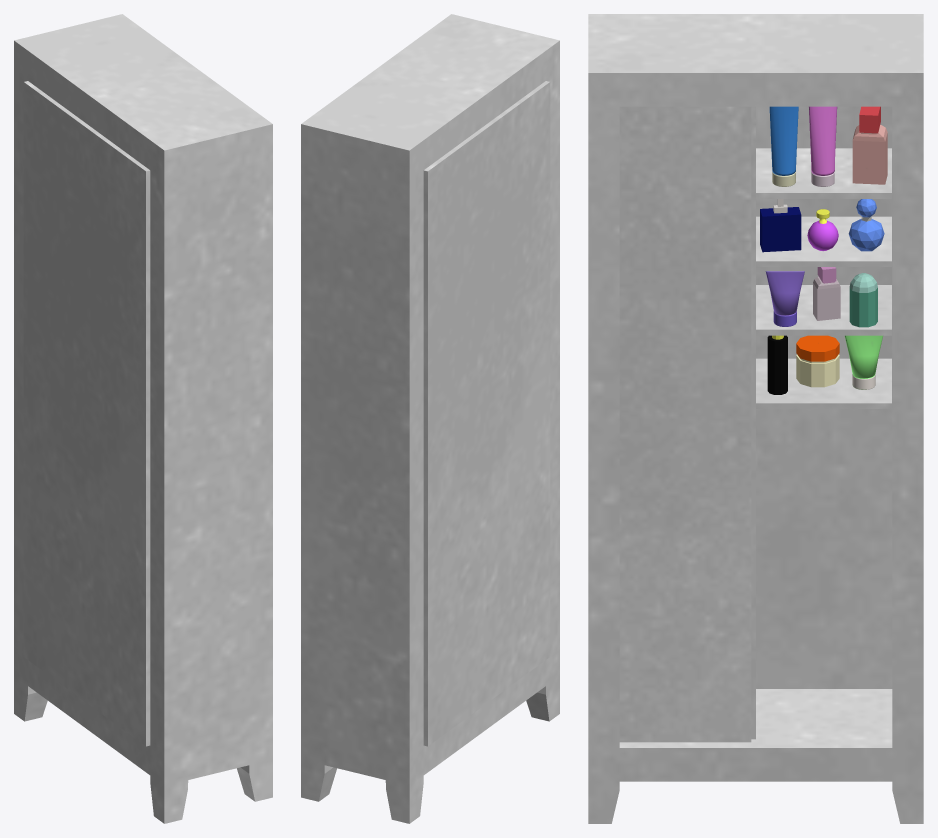
File: mobiletto_minigioco_bagno.fbx
The picture shows the model from 3 angles, left to right: view 1: azimuth 30°, elevation 25°; view 2: azimuth 150°, elevation 25°; view 3: azimuth 270°, elevation 25°; orthographic projection. The views are drawn at different scales.
Visible parts, largest first — view 1: Cube.004; view 2: Cube.004; view 3: Cube.004, Cube.002, Cube.001, Cylinder.006, Cylinder, Cylinder.002, Cube.006, Cylinder.003, Cylinder.004, Sphere.001, Cube.005, Icosphere (+2 smaller).
Boxes of the visible parts, <box> form: Cube.004: <box>14,14,272,823</box>; Cube.004: <box>301,14,559,823</box>; Cube.004: <box>588,14,923,823</box>; Cube.002: <box>619,106,751,742</box>; Cube.001: <box>852,106,887,184</box>; Cylinder.006: <box>796,335,839,387</box>; Cylinder: <box>769,106,798,186</box>; Cylinder.002: <box>809,106,837,186</box>; Cube.006: <box>760,199,801,252</box>; Cylinder.003: <box>765,271,804,326</box>; Cylinder.004: <box>844,335,882,389</box>; Sphere.001: <box>849,273,877,327</box>; Cube.005: <box>813,267,840,320</box>; Icosphere: <box>848,199,884,251</box>.
Size of the model in its own units: 31.02 by 177 by 71.65.
